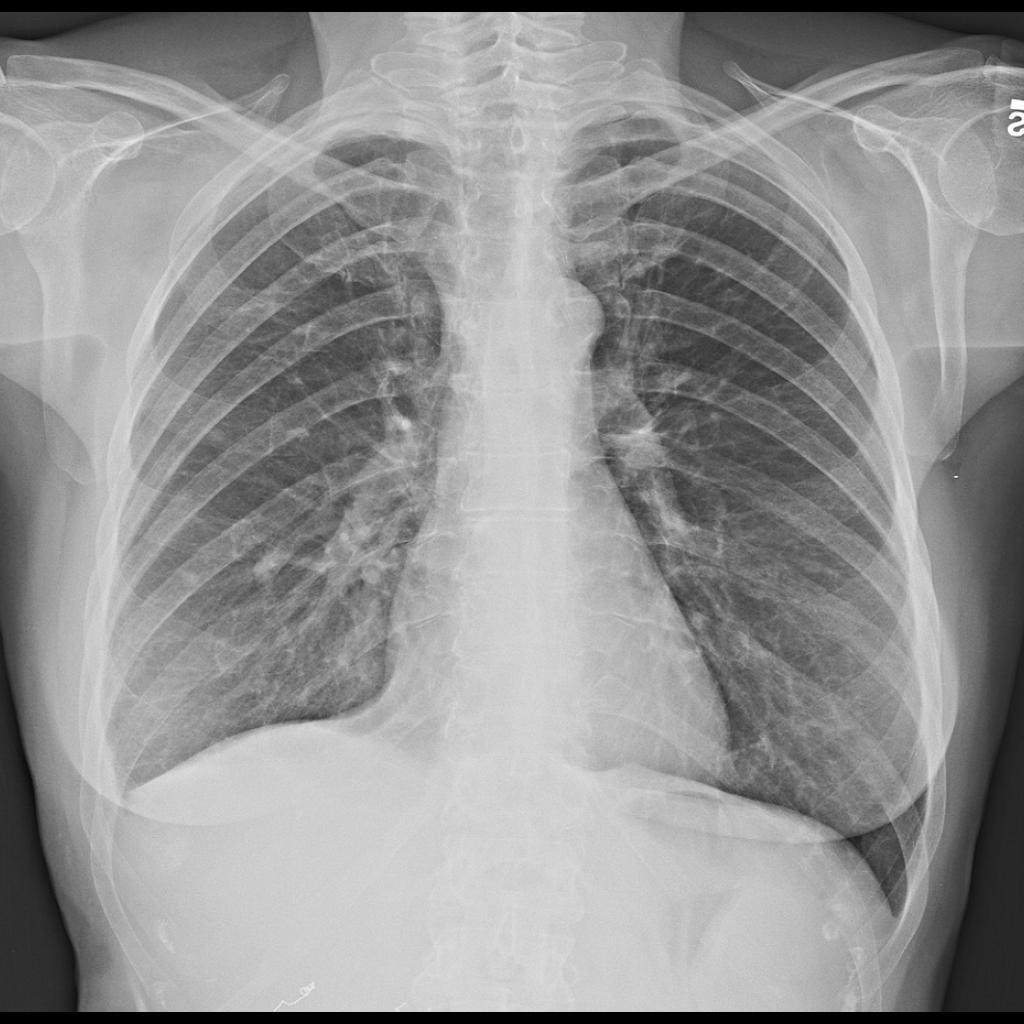Nodule: (248, 546, 295, 590)
